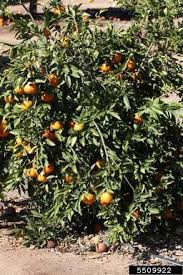orange: (99, 191, 113, 205), (81, 192, 95, 206)
